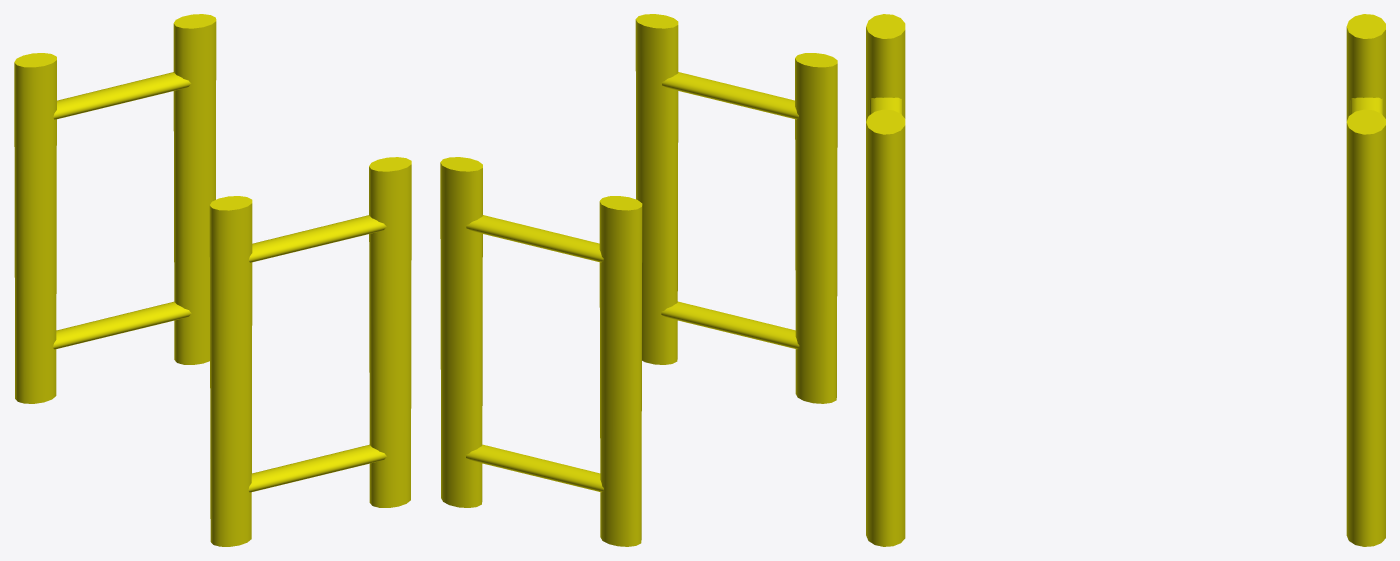
Rendered from Rail_Support_Strait_01.fbx.
3 views of the same model, side by side, from view 1: azimuth 30°, elevation 25°; view 2: azimuth 150°, elevation 25°; view 3: azimuth 270°, elevation 25° (orthographic). The views are drawn at different scales.
Parts seen in each view (by area): view 1: RailStraitSupport; view 2: RailStraitSupport; view 3: RailStraitSupport.
Boxes of the visible parts, x1=… form: RailStraitSupport: x1=14, y1=14, x2=411, y2=546; RailStraitSupport: x1=440, y1=14, x2=837, y2=546; RailStraitSupport: x1=866, y1=14, x2=1385, y2=546.
Bounding box in the file's own units: 1.25 × 2.02 × 2.29.
